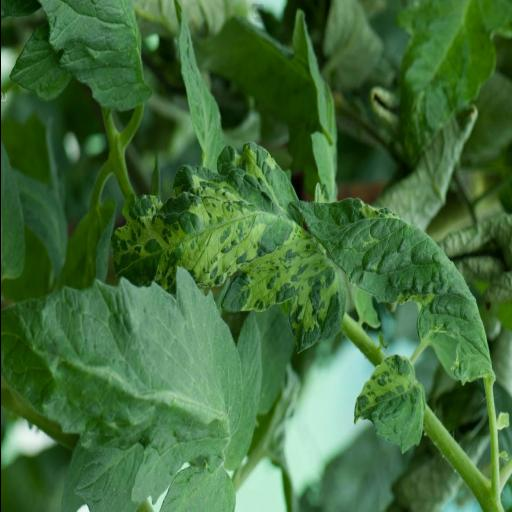Mosaic Virus: (106, 139, 344, 355), (352, 352, 426, 457)
